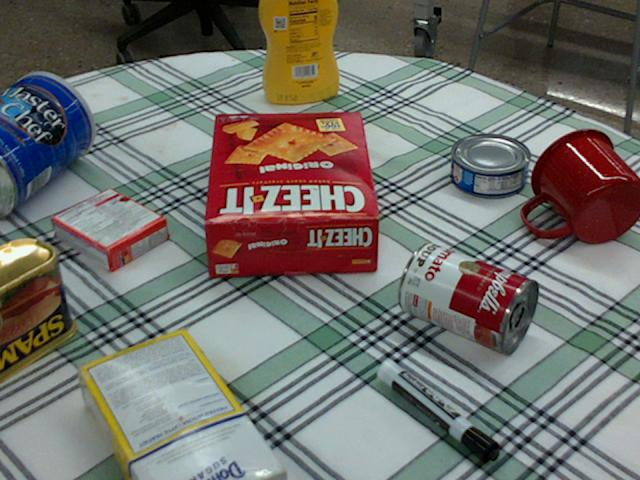cracker_box: (199, 111, 375, 273)
gelatin_box: (52, 186, 168, 272)
large_marker: (378, 360, 499, 465)
master_chef_can: (0, 71, 94, 219)
mug: (523, 129, 639, 244)
mustard_bottle: (259, 0, 338, 103)
potted_meat_can: (0, 235, 76, 381)
sugar_box: (72, 331, 283, 479)
tomato_soup_can: (397, 240, 538, 355)
tuna_fish_can: (450, 134, 531, 197)
